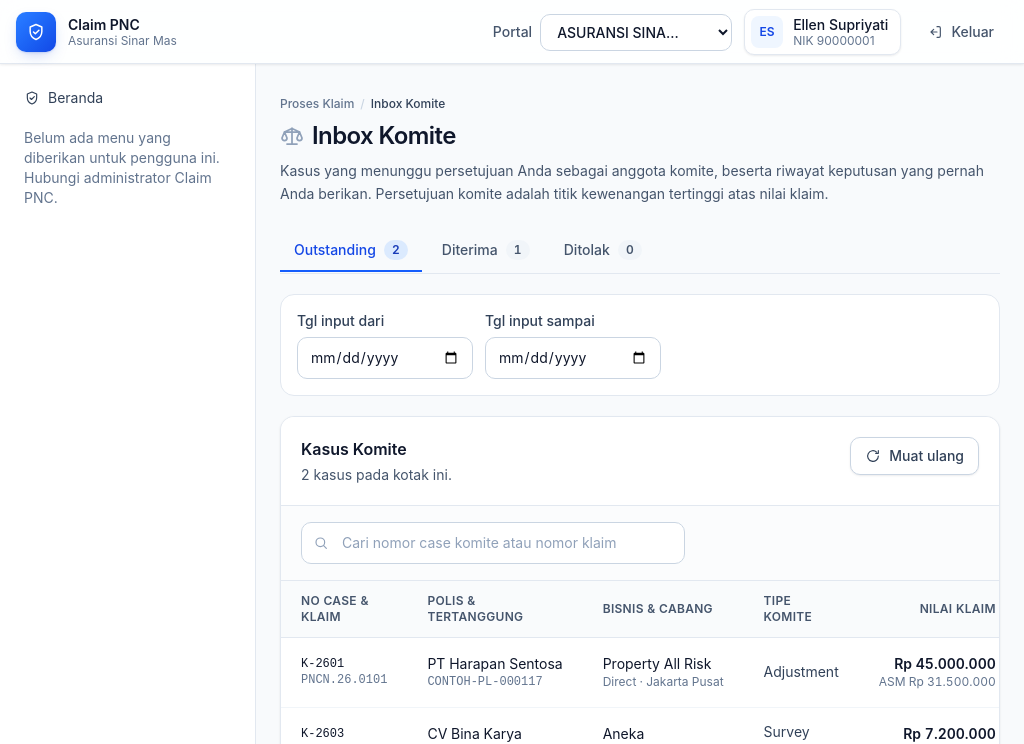
Test: penyaring › menandai rentang tanggal yang terbalik
Expected: the text "PT Harapan Sentosa" is shown, [427,654,563,674]
Type "2026-09-20" into the date field labelled "Tgl input dari" at (385, 358), box [297,336,473,378]
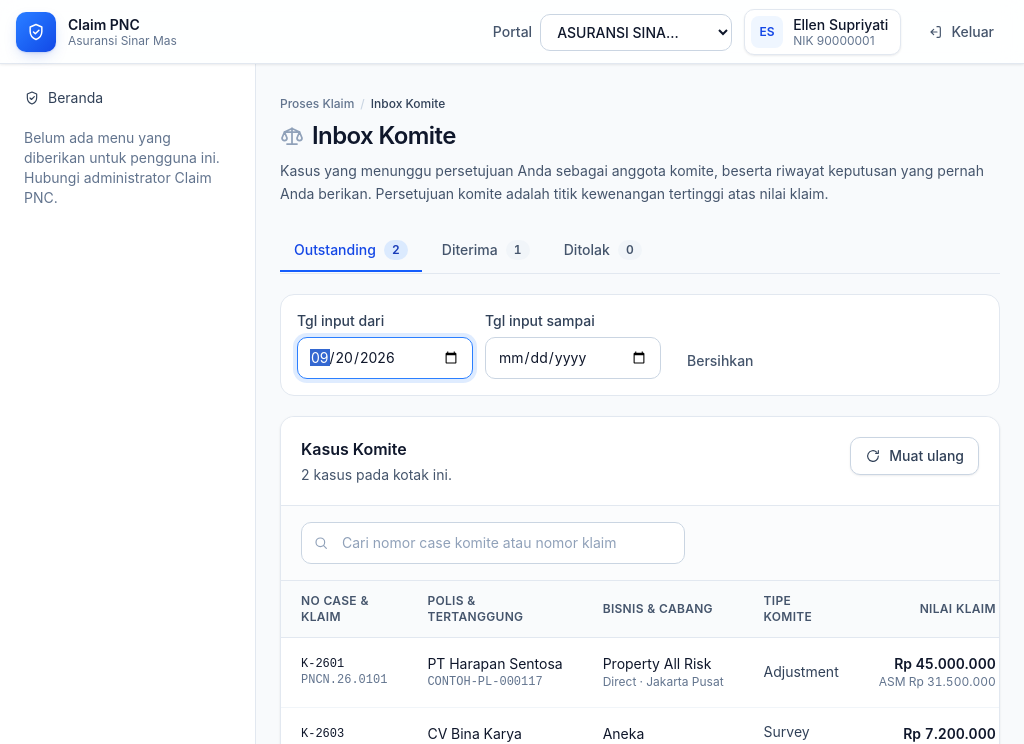
Type "2026-09-01" into the date field labelled "Tgl input sampai" at (573, 358), box [485,336,661,378]
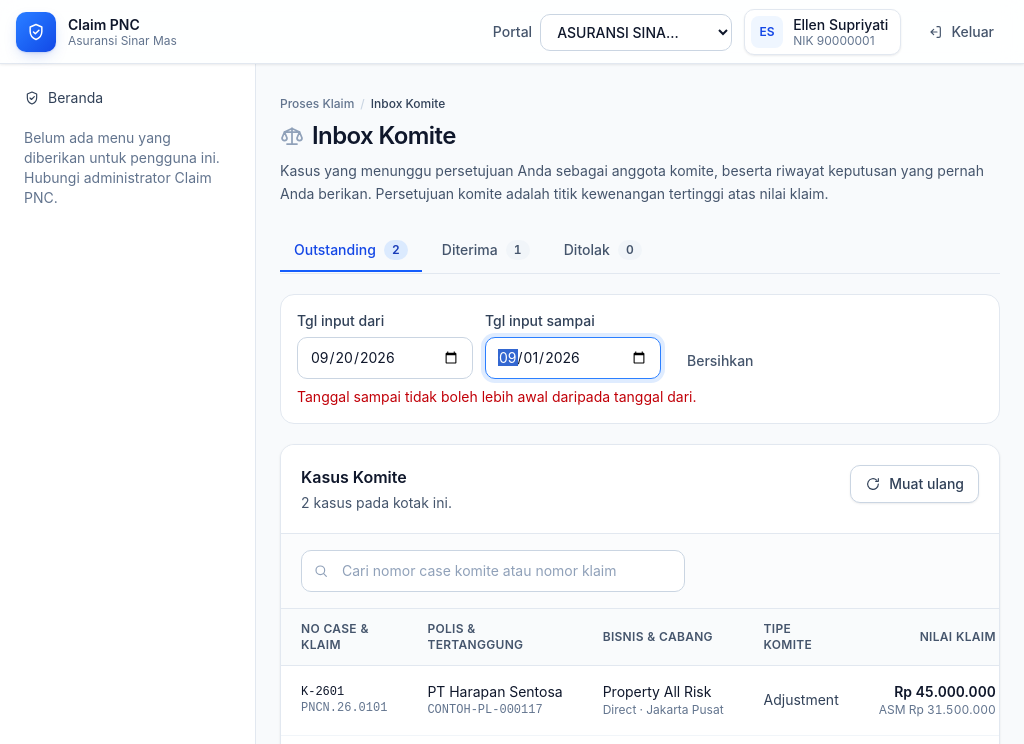
Now the text "Tanggal sampai tidak boleh lebih awal daripada tanggal dari." is shown, box [297,388,696,404]
